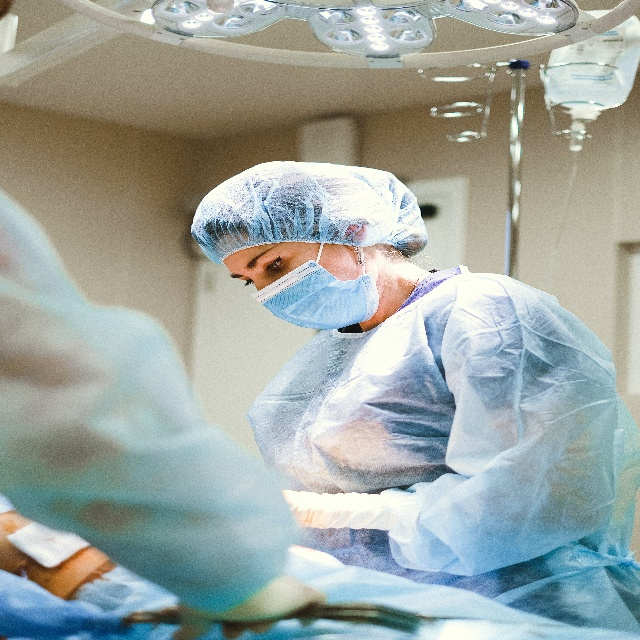Mascara: (249, 250, 382, 324)
